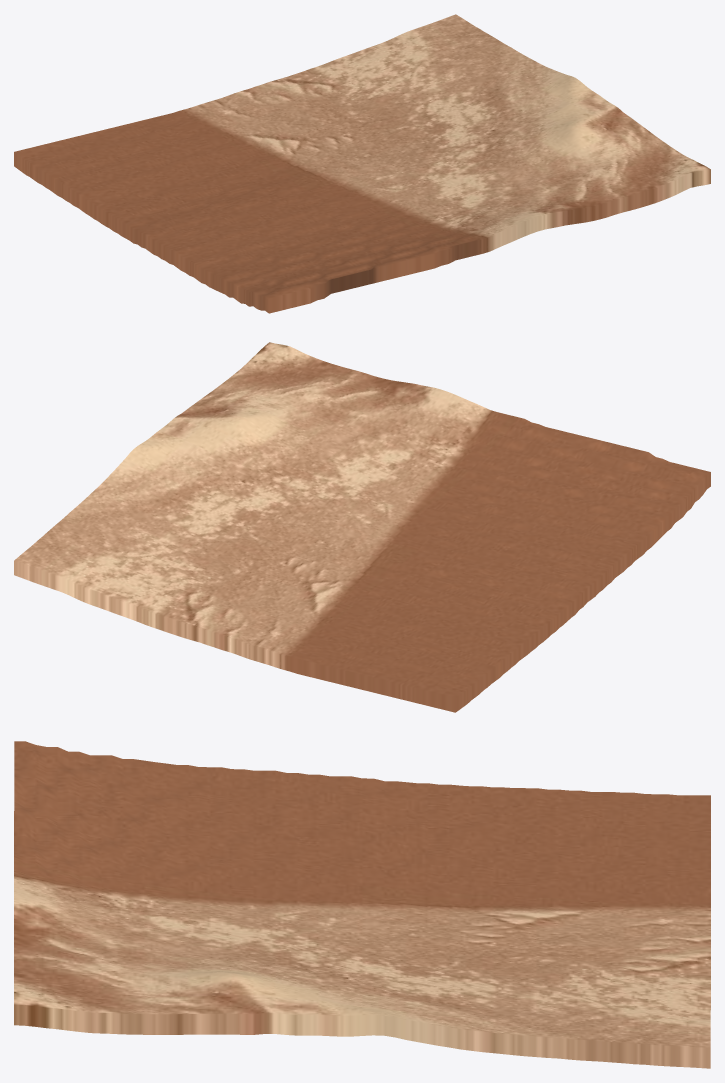
3 renders of one model, top to bottom at view 1: azimuth 30°, elevation 25°; view 2: azimuth 150°, elevation 25°; view 3: azimuth 270°, elevation 25°, orthographic. The views are drawn at different scales.
Visible parts, largest first — view 1: L6_17_3; view 2: L6_17_3; view 3: L6_17_3.
Boxes of the visible parts, x1,y1,x2,y2 form: L6_17_3: (14, 14, 710, 313); L6_17_3: (14, 342, 710, 712); L6_17_3: (14, 741, 710, 1068).
Bounding box in the file's own units: 225 × 37.43 × 225.
Materials: 1 (1 with a texture image).
